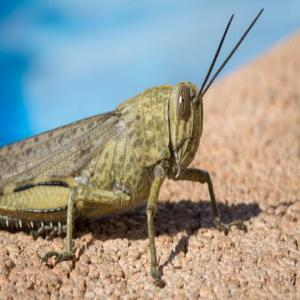locust: (1, 54, 222, 280)
